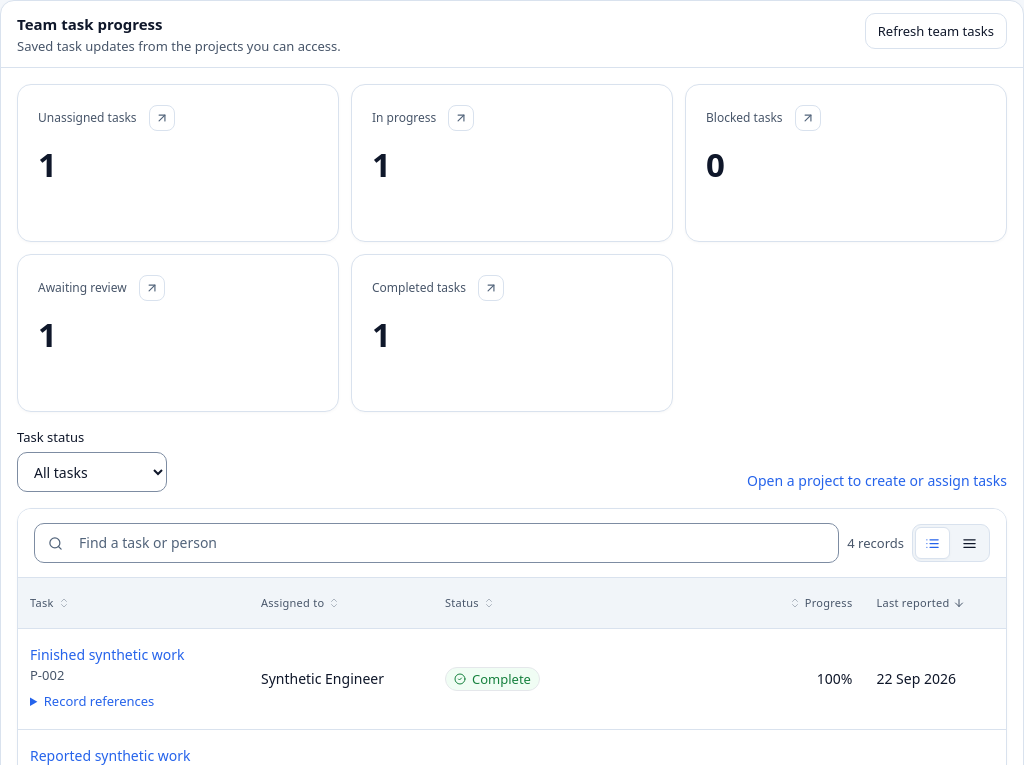
Test case: Manager task visibility › counts work reported complete but awaiting review apart from accepted work
Expected: the button "Completed tasks 1" is shown, [352,255,672,411]
Expected: the button "Awaiting review 1" is shown, [18,255,338,411]
Select "Awaiting review" in the dropdown labelled "Task status" at (92, 472), box [17,452,167,492]
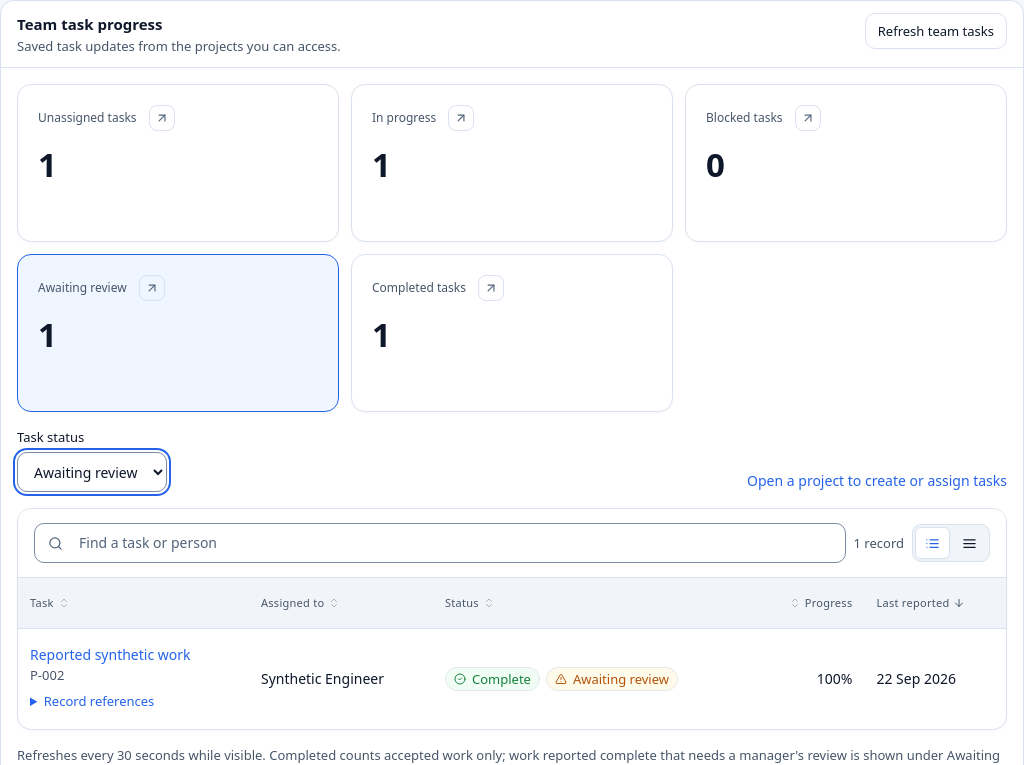
Expected: the link "Reported synthetic work" is shown, [30,645,190,664]
Expected: the link "Finished synthetic work" is gone
